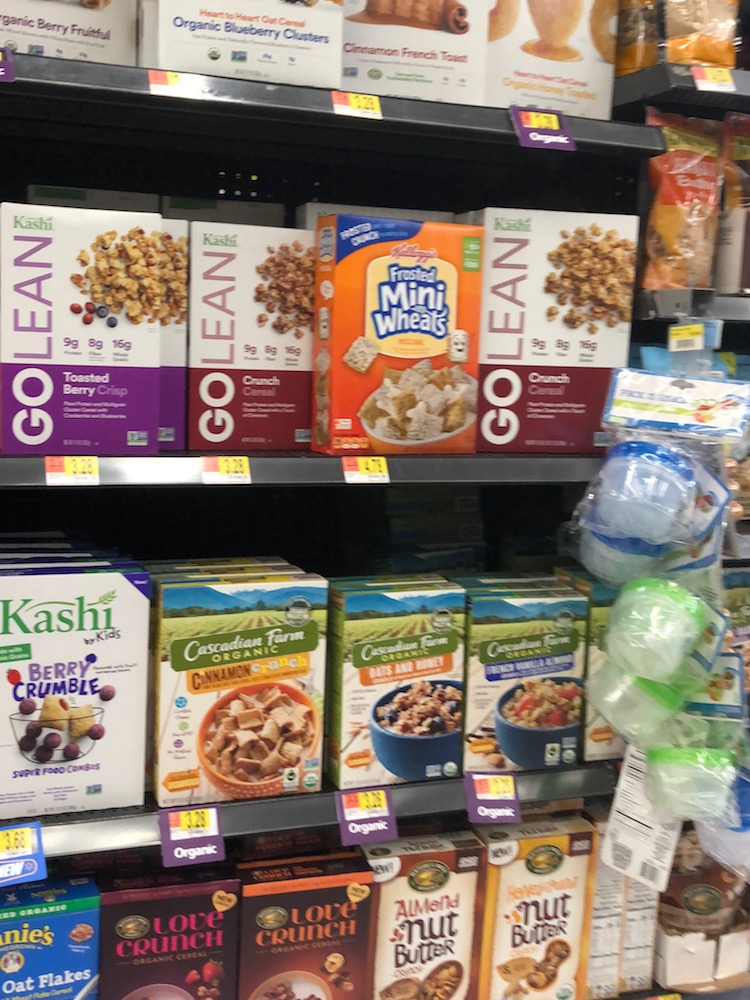Frosted Mini Original -9295869: (319, 210, 481, 454)
